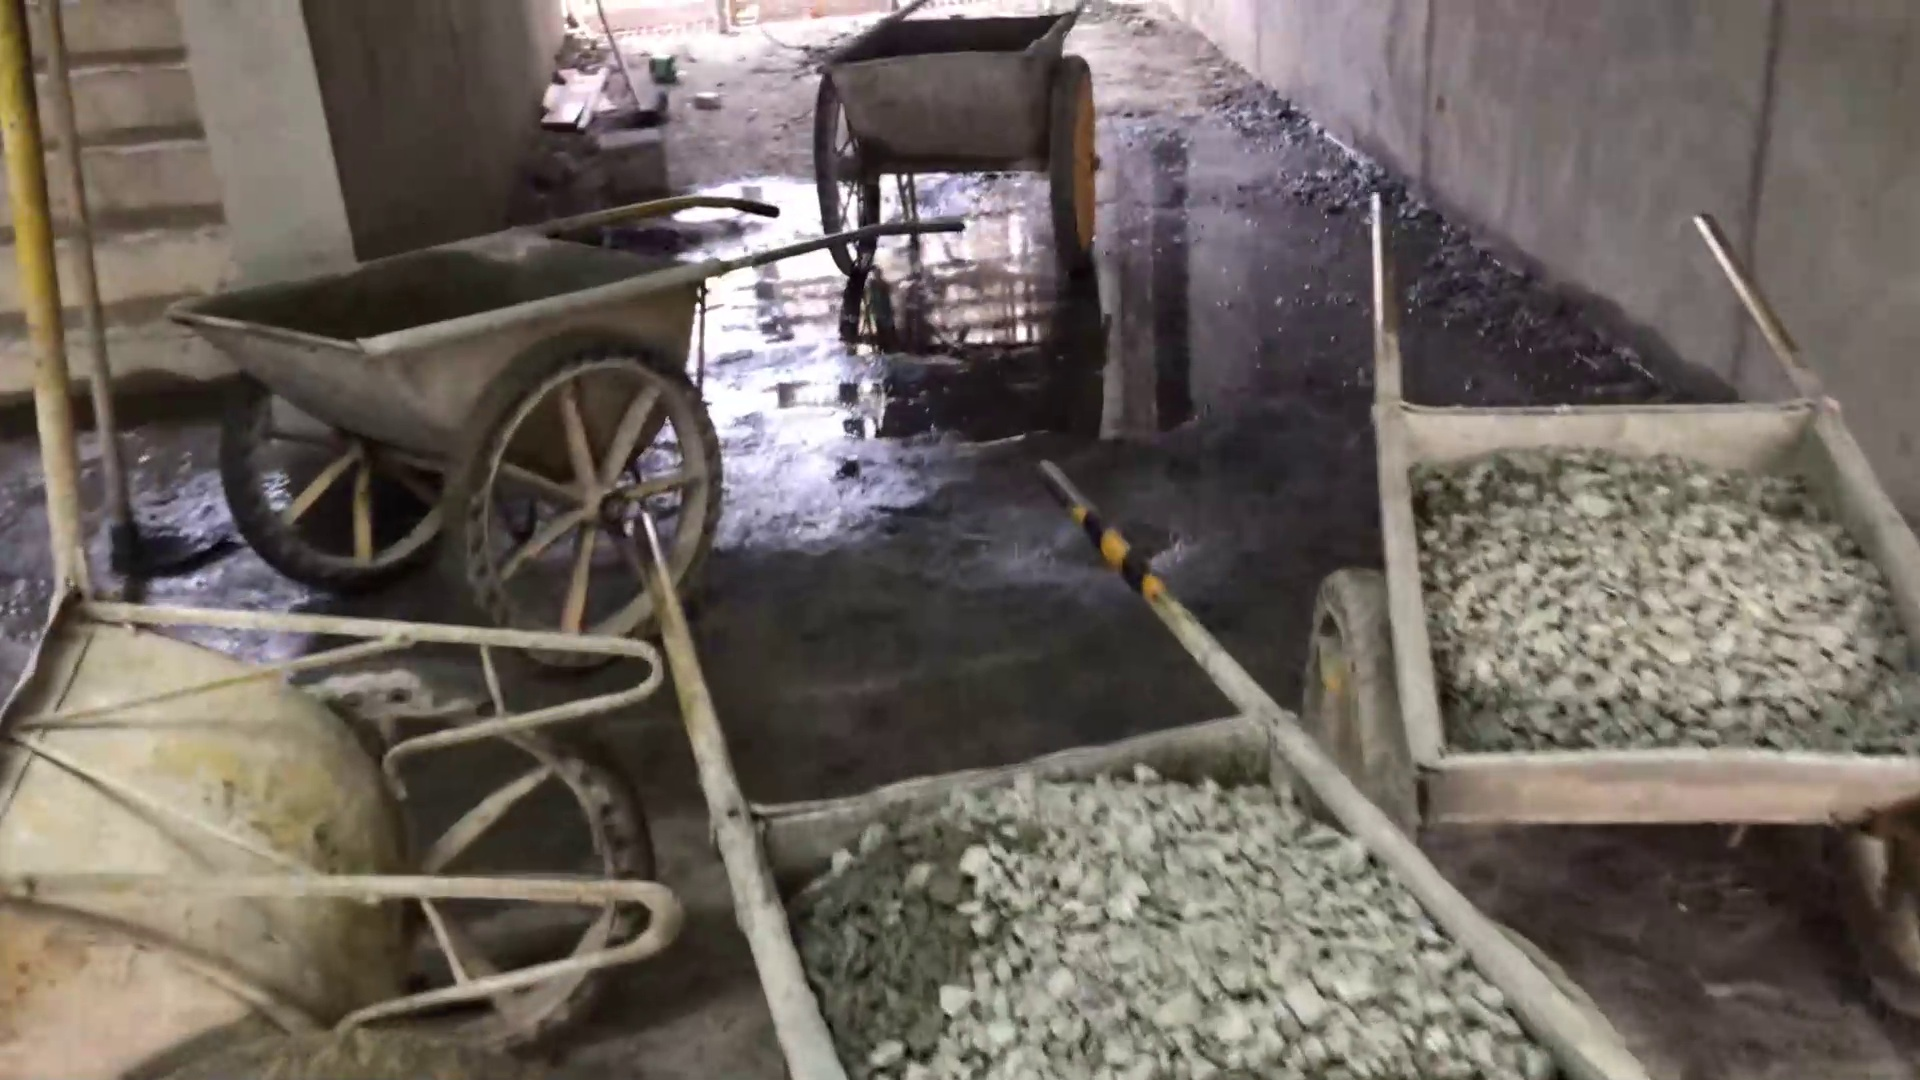handcart: (1, 1, 644, 1064), (568, 488, 1604, 1080), (1271, 174, 1920, 902), (138, 195, 977, 636), (782, 3, 1162, 286)
